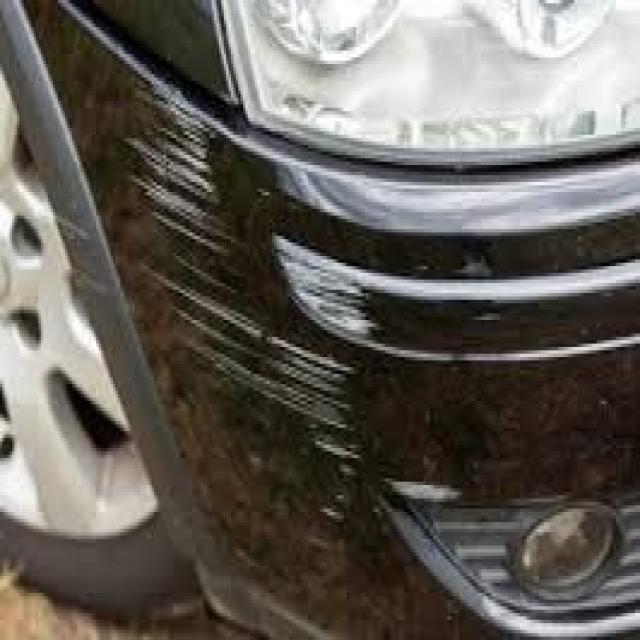dent-or-scratch: (108, 83, 364, 511)
